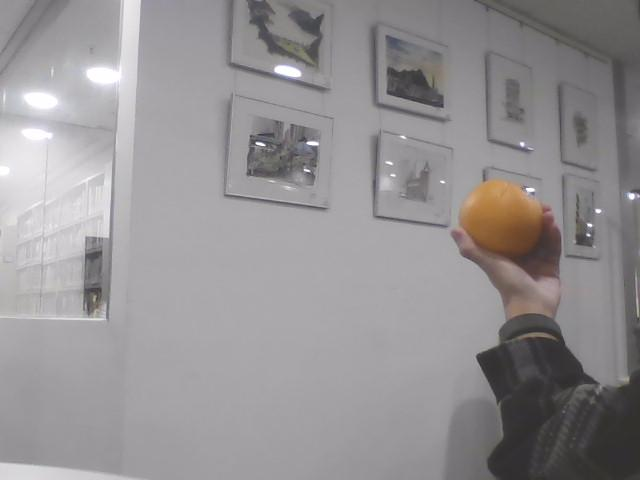orange: (460, 179, 544, 256)
